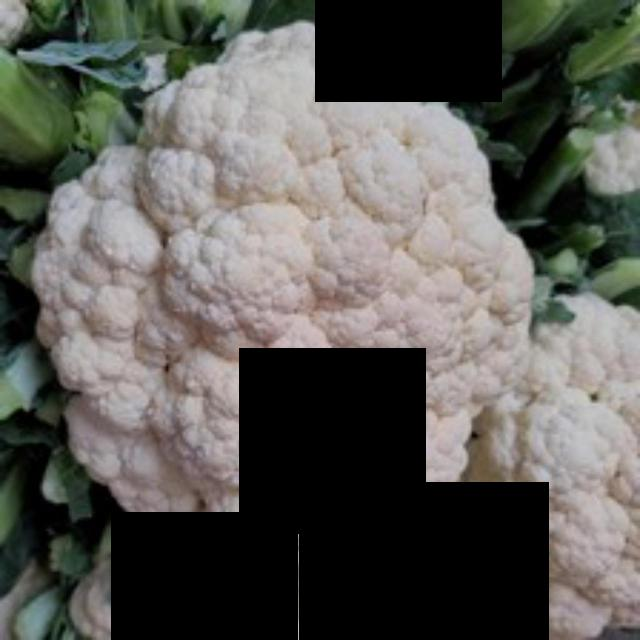cauliflower: (21, 16, 543, 586)
